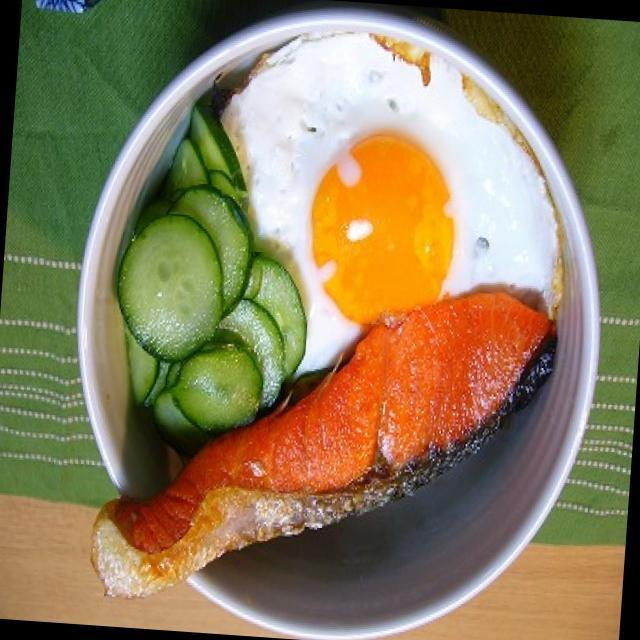Cucumber: (98, 153, 320, 458)
Egg: (256, 23, 579, 373)
